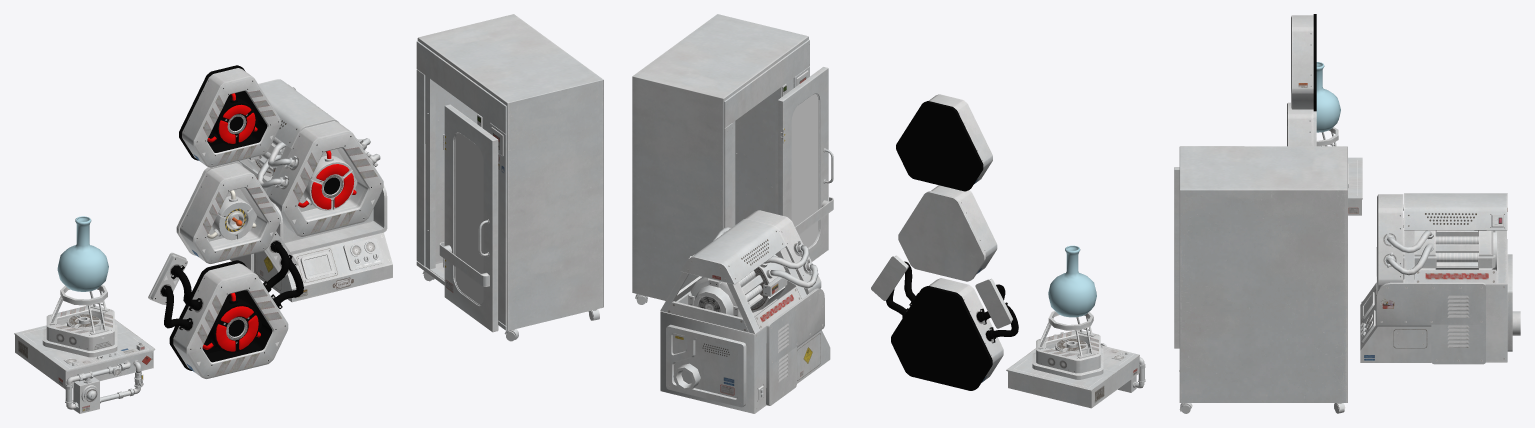
The model's file is ConductivesPanels.fbx.
3 views of the same model, side by side, from view 1: azimuth 30°, elevation 25°; view 2: azimuth 150°, elevation 25°; view 3: azimuth 270°, elevation 25° (orthographic). The views are drawn at different scales.
Parts seen in each view (by area): view 1: SM_Level11_ConductiveContainer_A.mo, SM_ConductivePanel_A.mo, SM_ConductivePanel_B.mo, SM_Level11_ContainerDoor_A.mo, SM_BunsenBurner_A.mo, SM_ConductiveReceiver_A.mo.002, SM_ConductivePanel_C.mo, SM_ExplodingBeaker_B.mo; view 2: SM_Level11_ConductiveContainer_A.mo, SM_ConductivePanel_A.mo, SM_ConductivePanel_B.mo, SM_Level11_ContainerDoor_A.mo, SM_BunsenBurner_A.mo, SM_ConductiveReceiver_A.mo.002, SM_ConductivePanel_C.mo, SM_ExplodingBeaker_B.mo; view 3: SM_Level11_ConductiveContainer_A.mo, SM_ConductivePanel_A.mo, SM_ConductivePanel_C.mo, SM_ConductiveReceiver_A.mo.002, SM_BunsenBurner_A.mo, SM_ExplodingBeaker_B.mo, SM_Level11_ContainerDoor_A.mo.
Boxes of the visible parts, bbox=[...] form: SM_Level11_ConductiveContainer_A.mo: bbox=[416, 14, 603, 341]; SM_ConductivePanel_A.mo: bbox=[230, 79, 392, 302]; SM_ConductivePanel_B.mo: bbox=[148, 231, 303, 378]; SM_Level11_ContainerDoor_A.mo: bbox=[439, 104, 498, 332]; SM_BunsenBurner_A.mo: bbox=[14, 285, 155, 413]; SM_ConductiveReceiver_A.mo.002: bbox=[176, 161, 280, 263]; SM_ConductivePanel_C.mo: bbox=[179, 65, 280, 167]; SM_ExplodingBeaker_B.mo: bbox=[57, 216, 108, 291]; SM_Level11_ConductiveContainer_A.mo: bbox=[632, 14, 809, 304]; SM_ConductivePanel_A.mo: bbox=[660, 210, 830, 413]; SM_ConductivePanel_B.mo: bbox=[871, 255, 1018, 390]; SM_Level11_ContainerDoor_A.mo: bbox=[778, 67, 833, 261]; SM_BunsenBurner_A.mo: bbox=[1006, 311, 1145, 408]; SM_ConductiveReceiver_A.mo.002: bbox=[898, 185, 997, 281]; SM_ConductivePanel_C.mo: bbox=[896, 94, 992, 191]; SM_ExplodingBeaker_B.mo: bbox=[1048, 245, 1096, 317]; SM_Level11_ConductiveContainer_A.mo: bbox=[1179, 146, 1347, 413]; SM_ConductivePanel_A.mo: bbox=[1360, 193, 1520, 364]; SM_ConductivePanel_C.mo: bbox=[1291, 14, 1316, 111]; SM_ConductiveReceiver_A.mo.002: bbox=[1287, 102, 1316, 146]; SM_BunsenBurner_A.mo: bbox=[1316, 127, 1362, 215]; SM_ExplodingBeaker_B.mo: bbox=[1316, 62, 1340, 132]; SM_Level11_ContainerDoor_A.mo: bbox=[1174, 167, 1179, 348].
Bounding box in the file's own units: 562 × 318 × 364.
